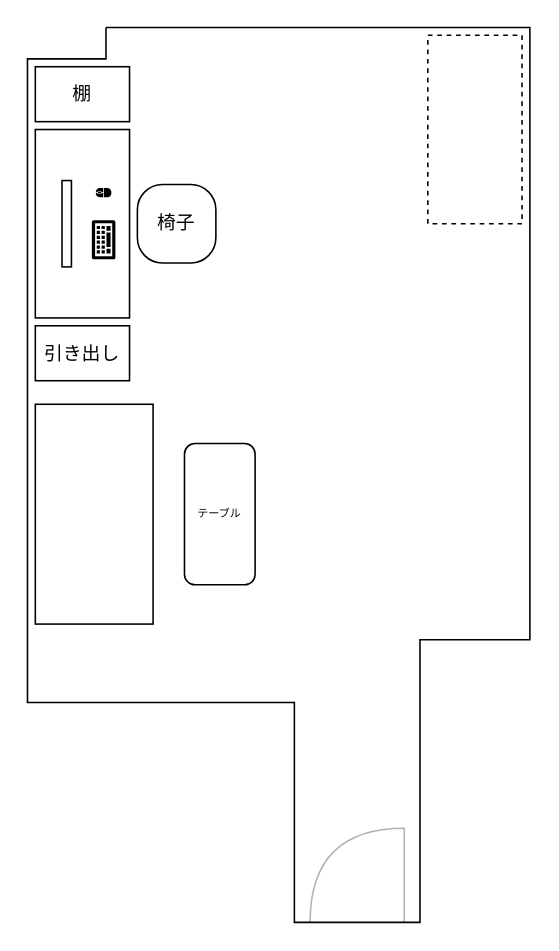
The diagram is 559 pixels wide and 951 high, and some of its shapes have lost their labels. The shapes that lost their labels are listed below. From the top down, each one's centre as x and y in pixels, then its label:
the point at 474,129: 新デスク
the point at 93,513: ソファ
